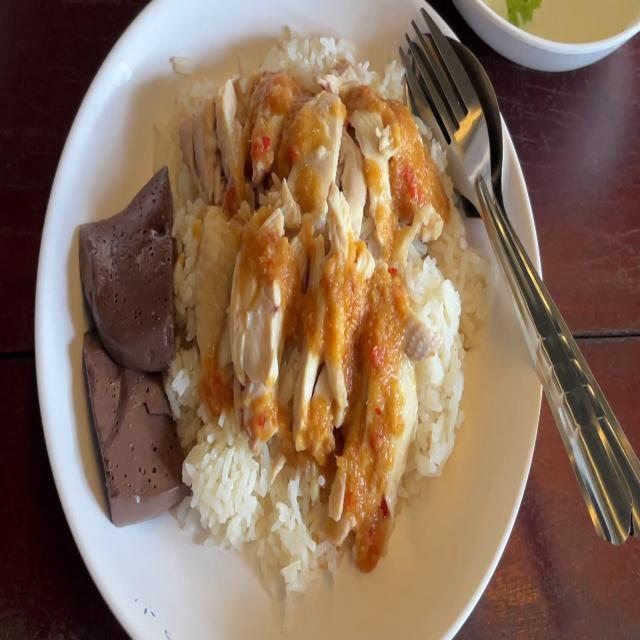boiled_chicken: (181, 71, 425, 477)
boiled_chicken_blood_jelly: (71, 168, 174, 368), (84, 321, 180, 514)
chicken_rice: (79, 23, 493, 600)
